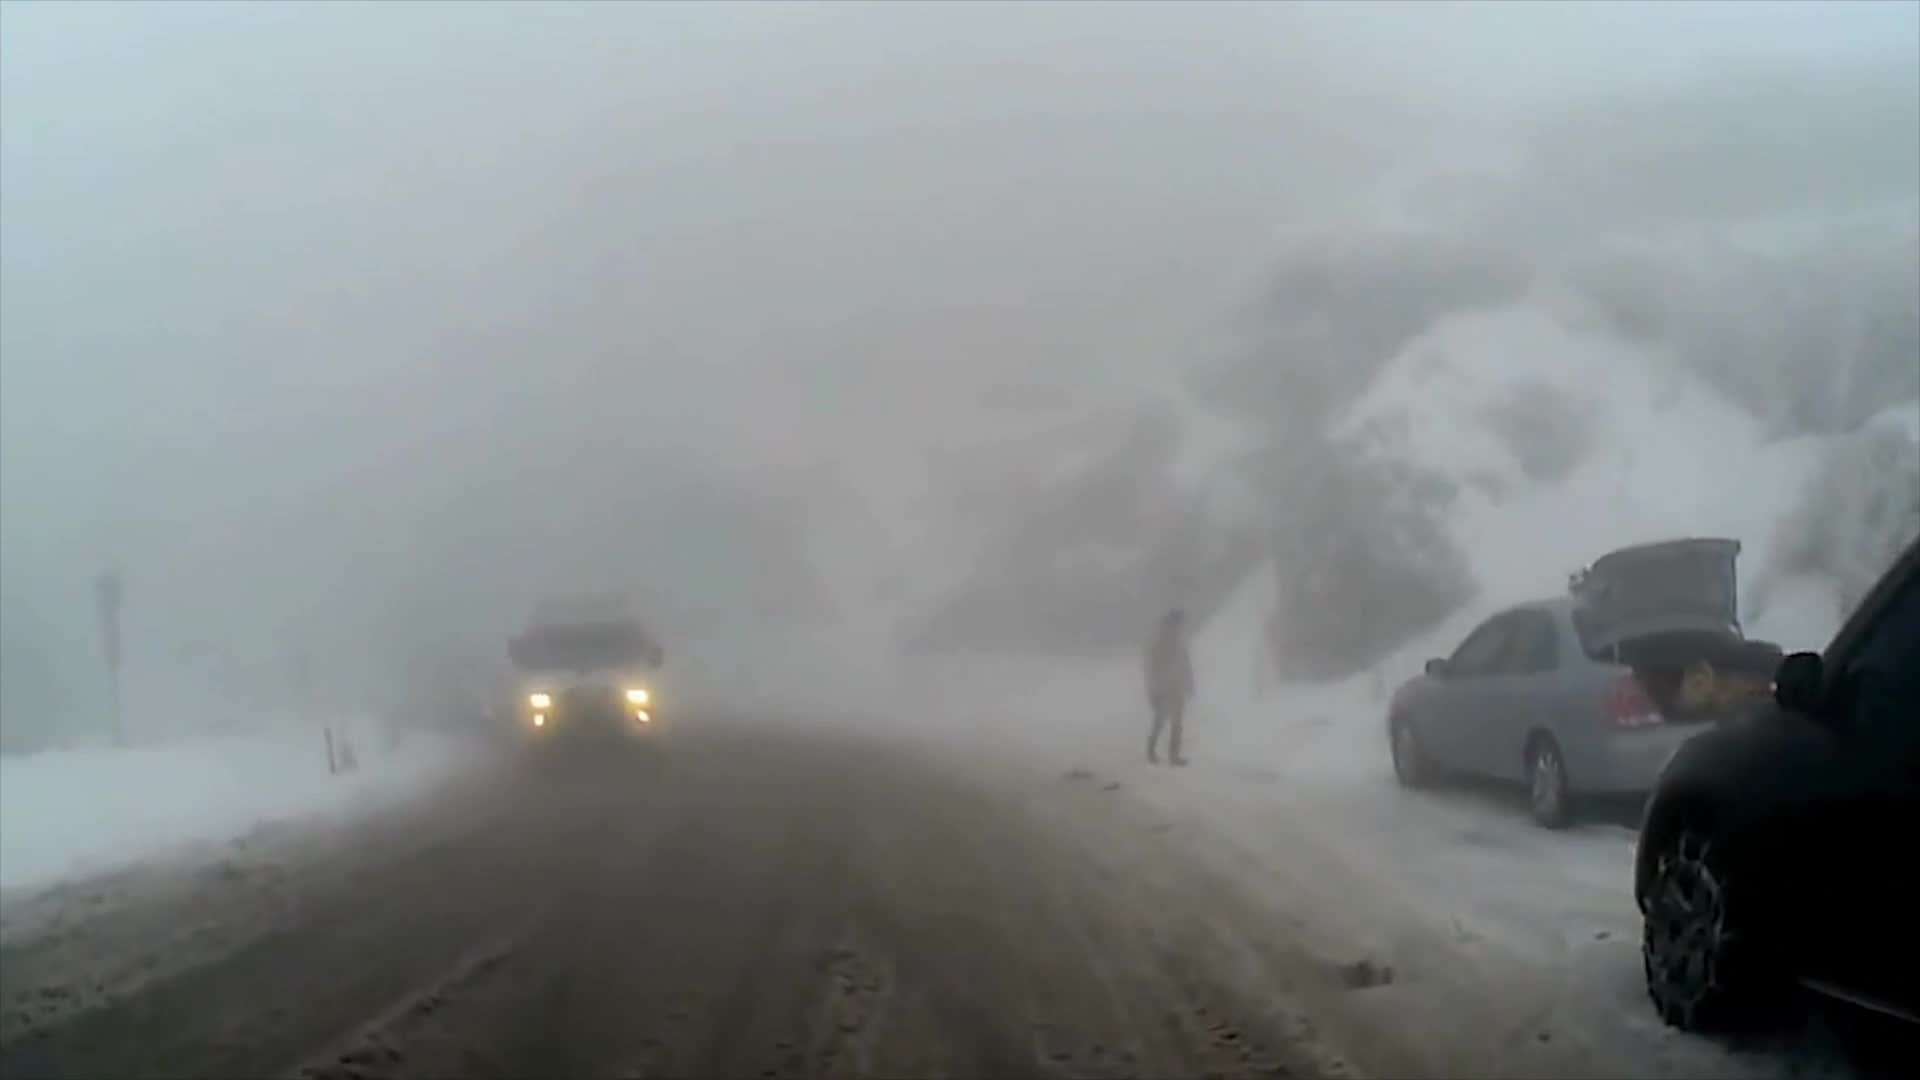pedestrian: (1138, 607, 1195, 766)
vehicle: (1631, 518, 1920, 1079), (1382, 533, 1802, 831), (501, 597, 664, 776)
